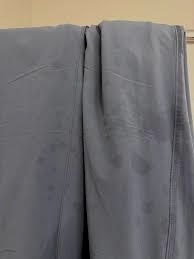oil: (35, 142, 80, 163), (129, 149, 158, 178), (39, 179, 58, 205), (138, 195, 159, 215), (44, 162, 64, 178)
